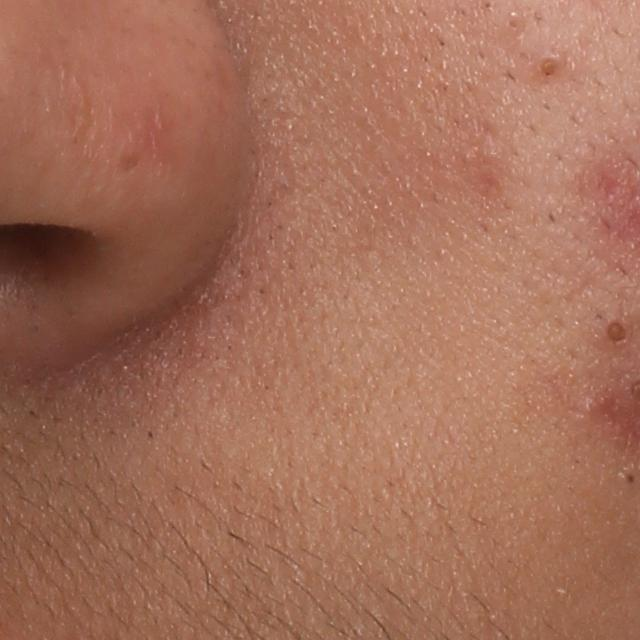comedo: (600, 313, 634, 347), (536, 51, 566, 82)
